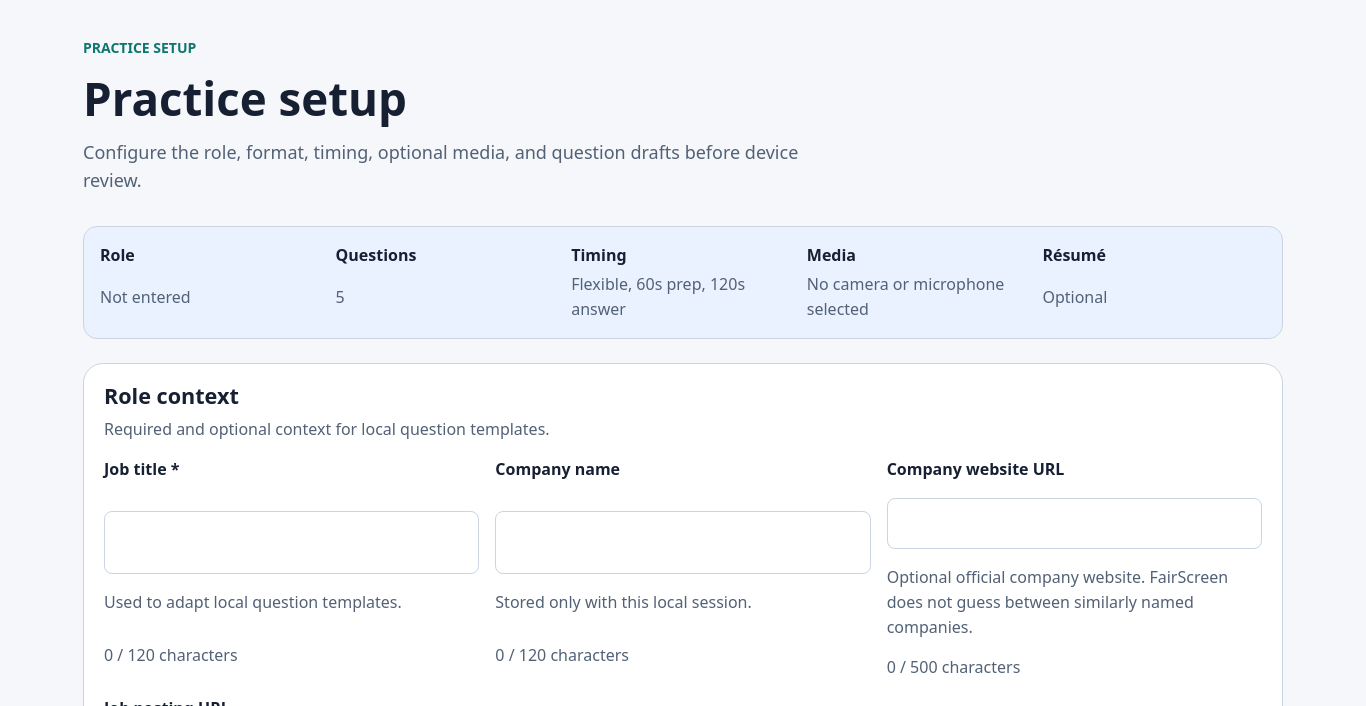
Test: SetupPage job context and company research › asks users to resolve ambiguous company names instead of guessing
Type "Example" into the field labelled "Company name" at x=683, y=542, box [495,511,871,574]
(page scrolled)
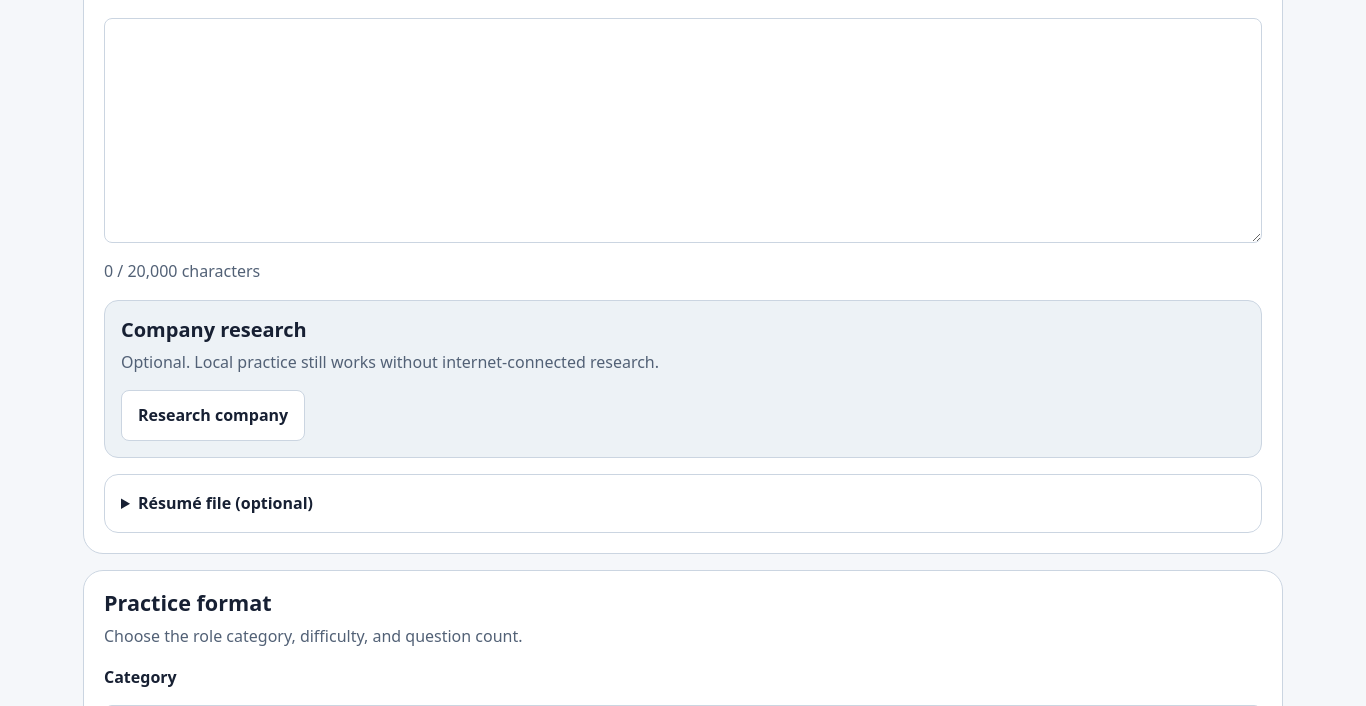
Click the button "Research company" at x=213, y=416, box [121,390,305,441]
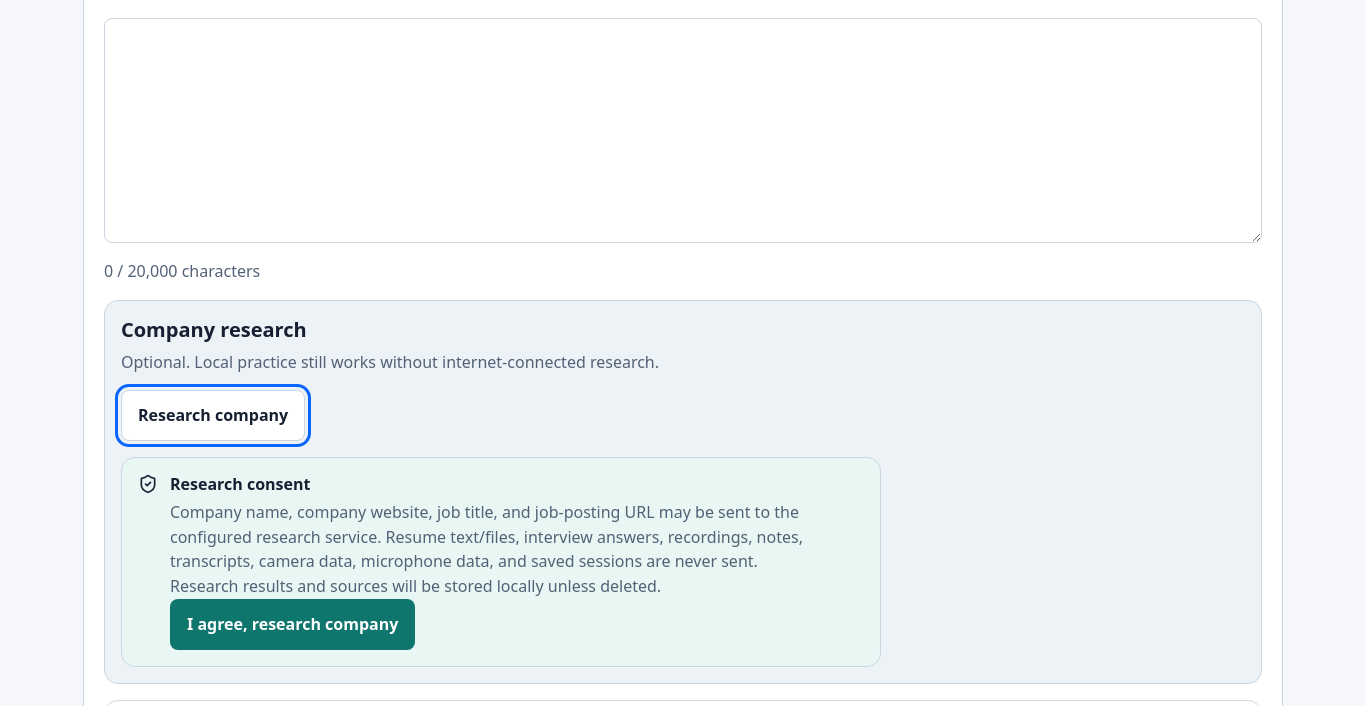
Click the button "I agree, research company" at x=293, y=624, box [170,599,415,650]
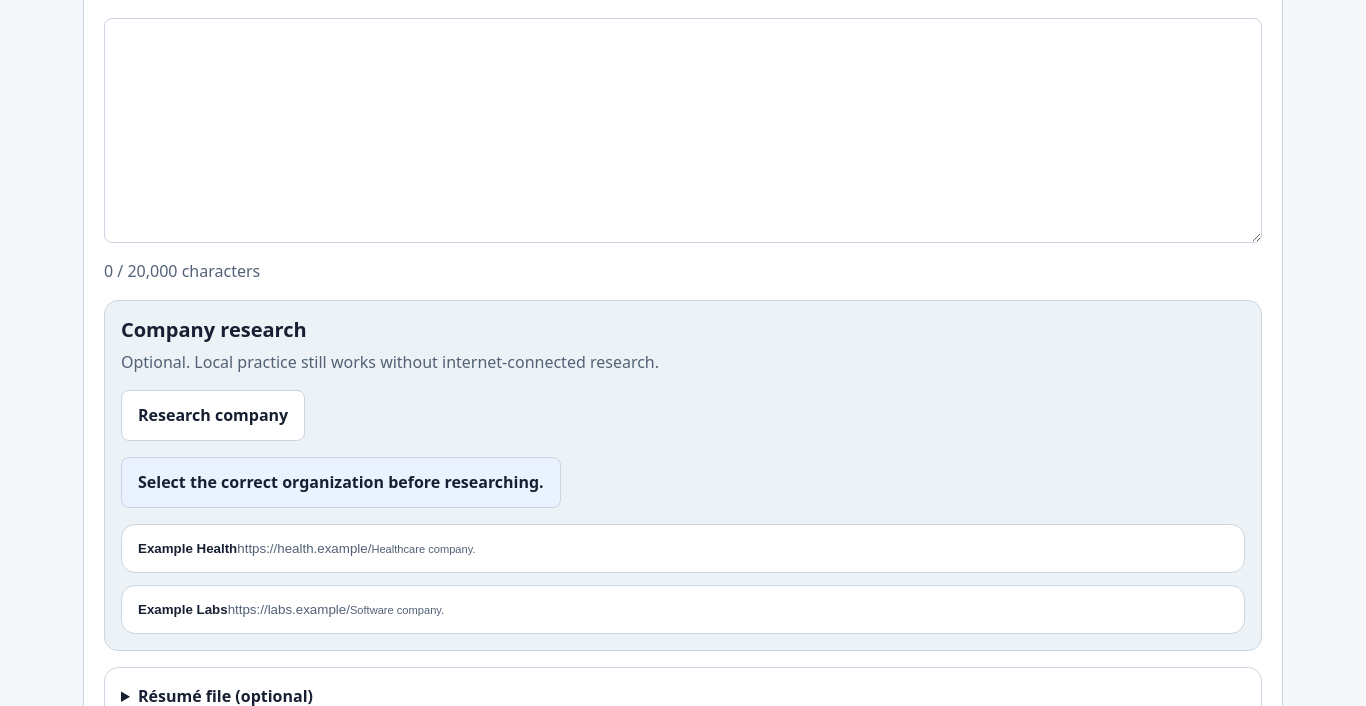
Result: the text "Example Health" is shown at [138,541,237,556]
Click the button "Example Labs" at x=183, y=609, box [121,585,1245,634]
(page scrolled)
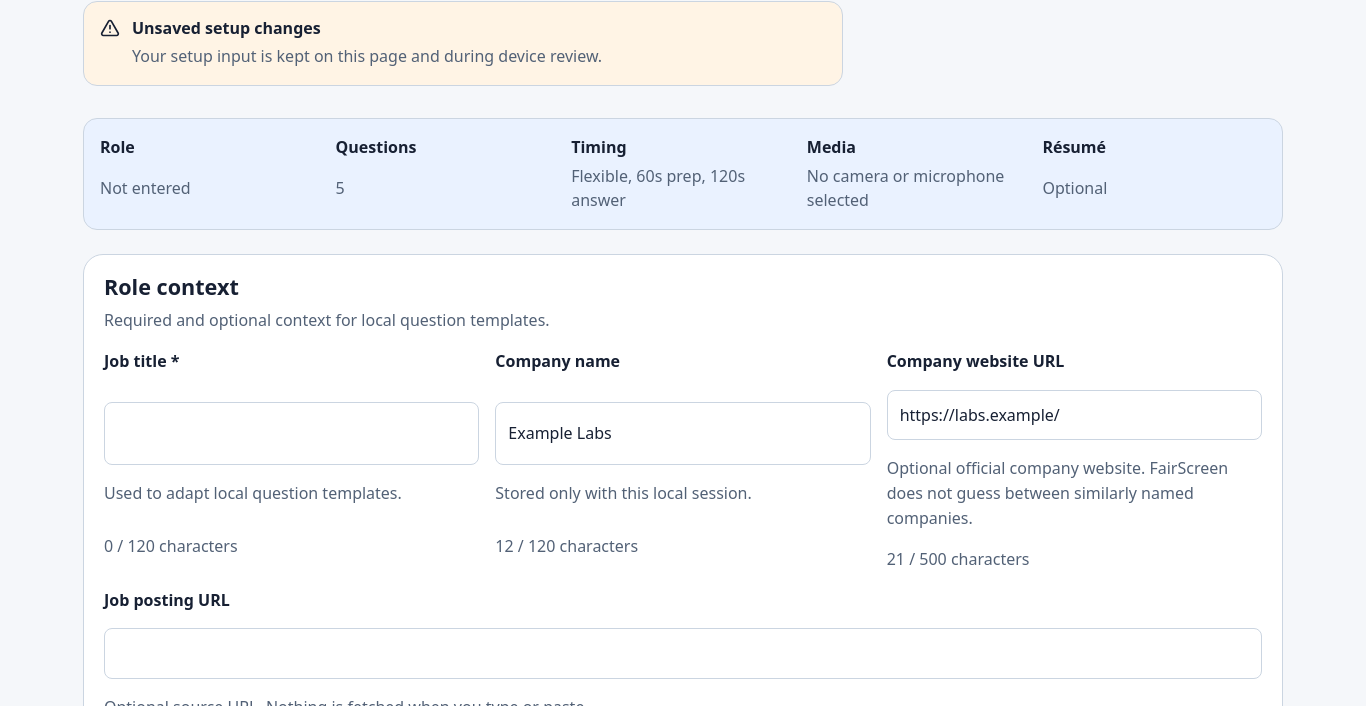
Result: the field labelled "Company name" holds "Example Labs" at [495,402,871,465]
